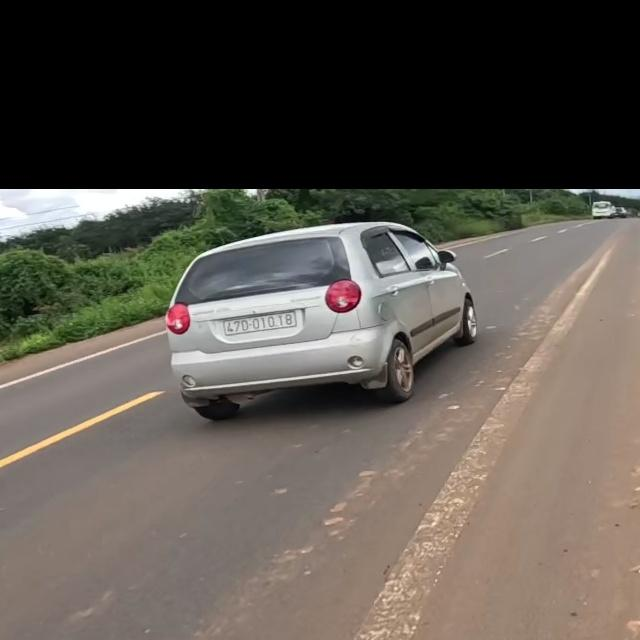license-plate: (220, 311, 300, 333)
